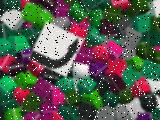Left: (28, 21, 84, 77)
